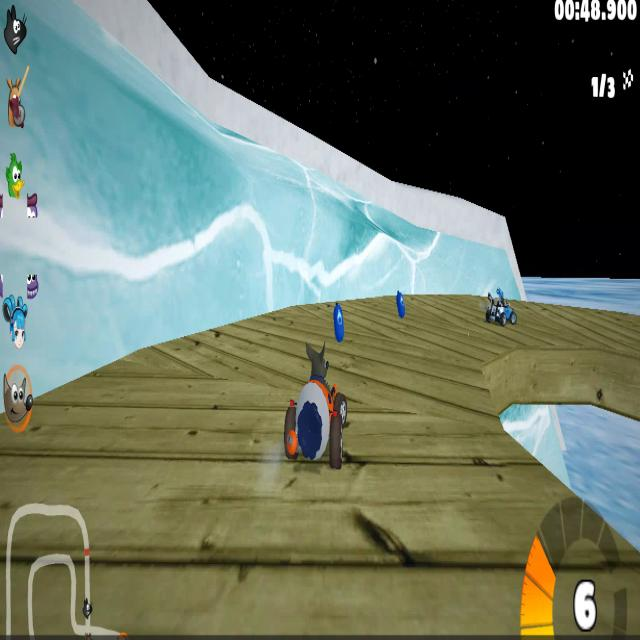player_kart: (277, 334, 353, 504)
track: (53, 388, 274, 632), (279, 506, 519, 636), (358, 340, 494, 508), (134, 352, 276, 389), (536, 291, 633, 341), (417, 281, 480, 338), (282, 307, 327, 329), (226, 318, 276, 335)
